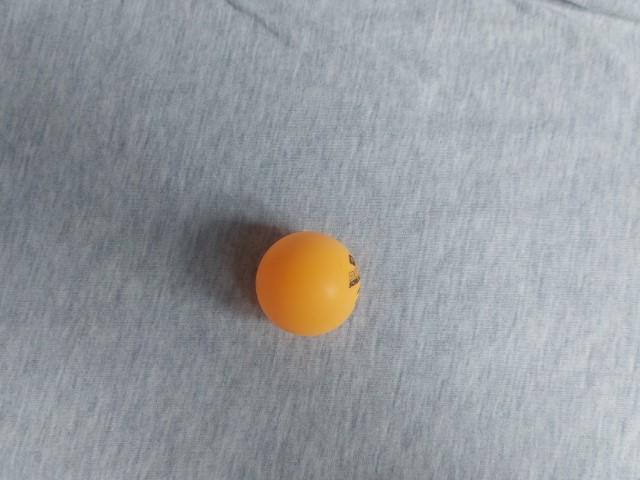oball: (269, 136, 395, 255)
